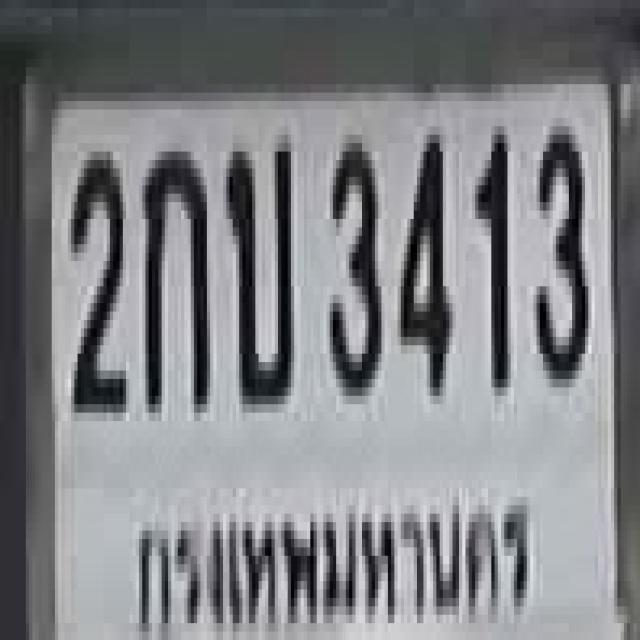-: (223, 135, 291, 396), (142, 143, 207, 404)
1: (472, 122, 504, 383)
2: (68, 143, 123, 404)
3: (533, 118, 585, 379), (327, 130, 378, 392)
4: (398, 126, 446, 388)
BKK: (118, 467, 541, 640)
